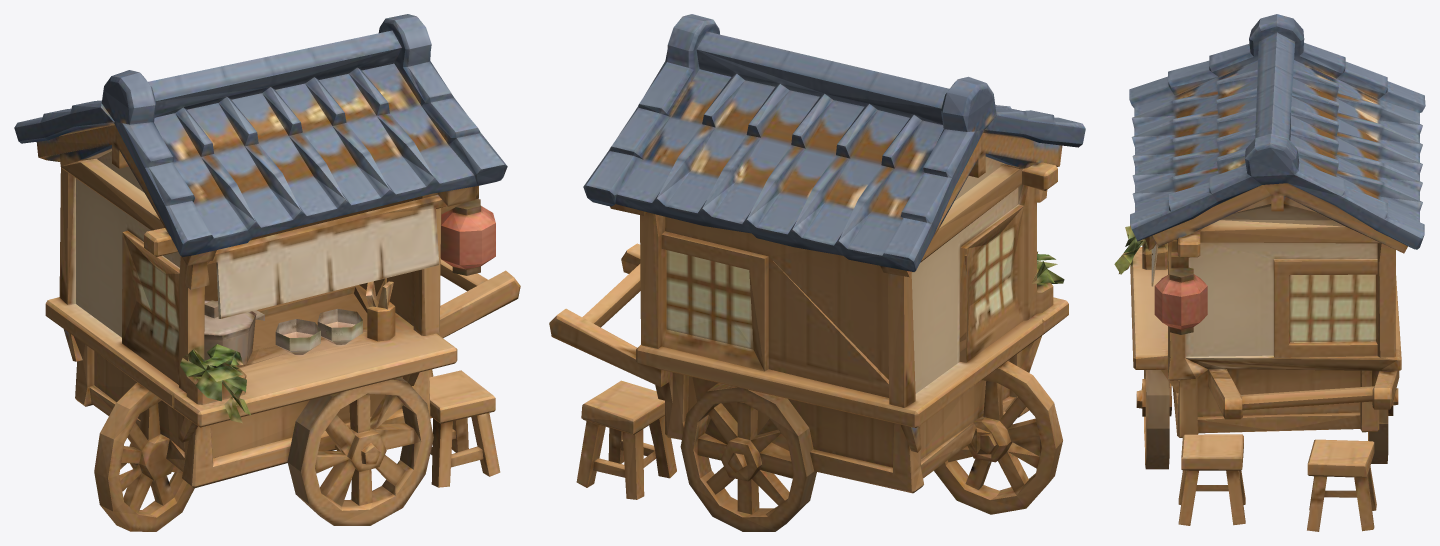
The model's file is noodlecart-nzpGkhPZ.glb.
3 views of the same model, side by side, from view 1: azimuth 30°, elevation 25°; view 2: azimuth 150°, elevation 25°; view 3: azimuth 270°, elevation 25° (orthographic). The views are drawn at different scales.
Parts seen in each view (by area): view 1: tripo_node_8aa499e2-00a7-42bc-b5e0-bc76b35e0166; view 2: tripo_node_8aa499e2-00a7-42bc-b5e0-bc76b35e0166; view 3: tripo_node_8aa499e2-00a7-42bc-b5e0-bc76b35e0166.
Boxes of the visible parts, <box> form: tripo_node_8aa499e2-00a7-42bc-b5e0-bc76b35e0166: <box>14,14,520,531</box>; tripo_node_8aa499e2-00a7-42bc-b5e0-bc76b35e0166: <box>549,14,1085,531</box>; tripo_node_8aa499e2-00a7-42bc-b5e0-bc76b35e0166: <box>1114,14,1425,531</box>.
Bounding box in the file's own units: 0.9788 × 0.9672 × 0.7221.
Materials: 1 (1 with a texture image).
